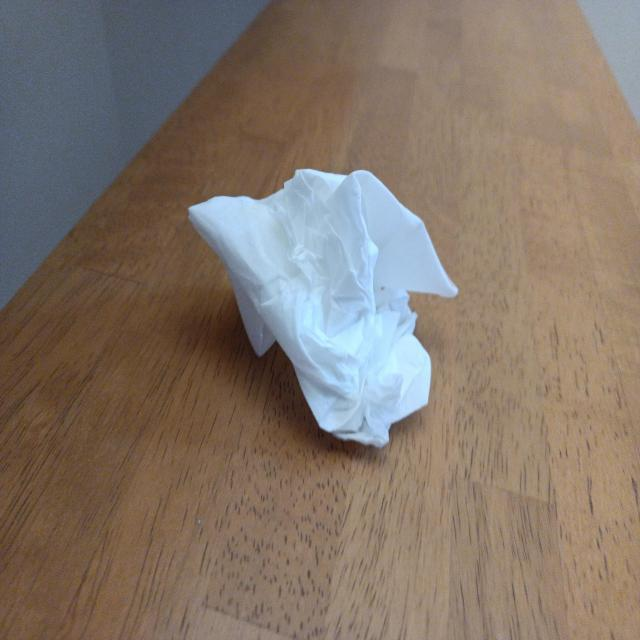Paper: (214, 152, 424, 437)
